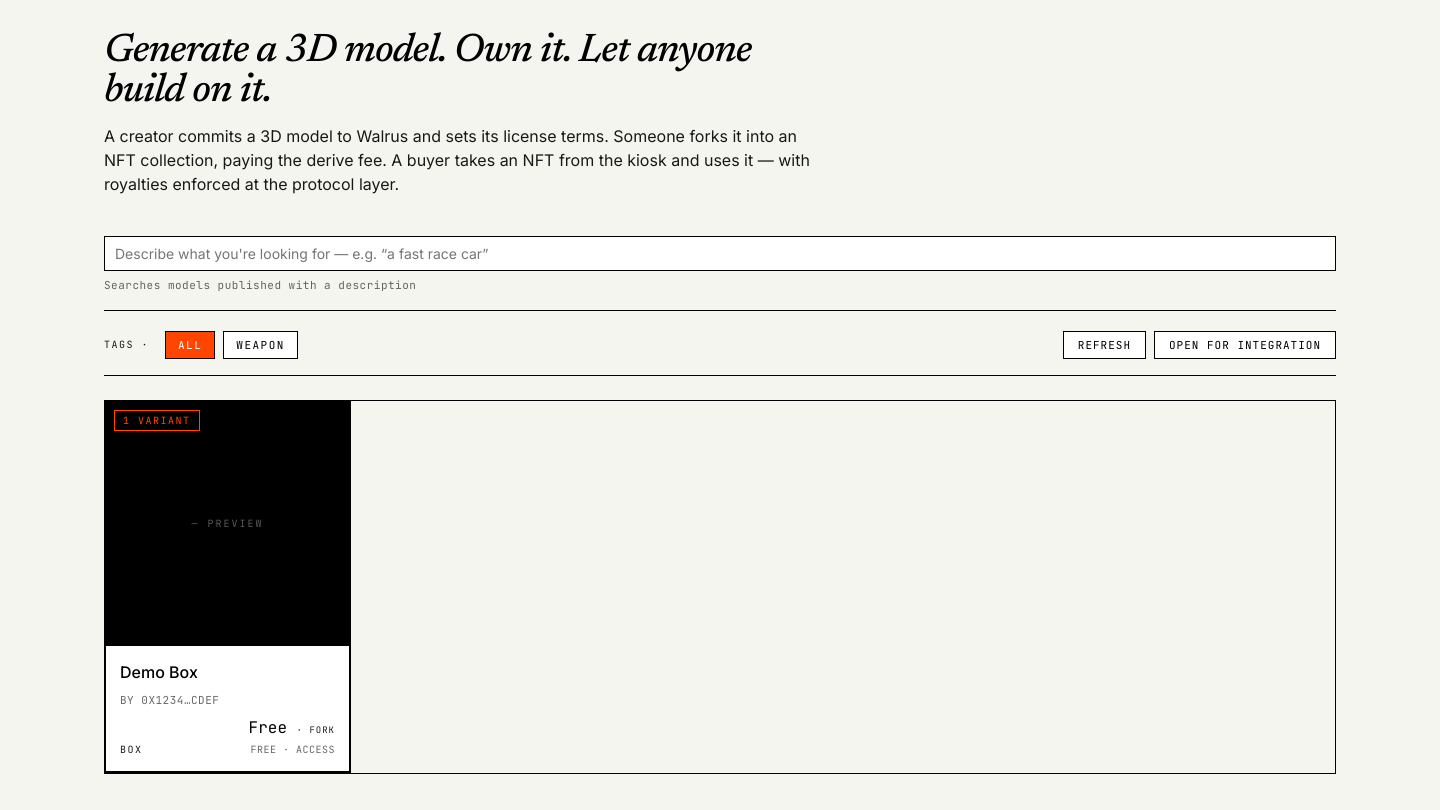
Test: BrowsePage › R10: a degraded recall scope surfaces the degraded note, not an empty grid, and suppresses showing-all
The width and height of the screenshot is (1440, 810).
Type "race car" into the field with test id "browse-search-input".
click(720, 254); type("race car")  # box [104, 236, 1336, 271]
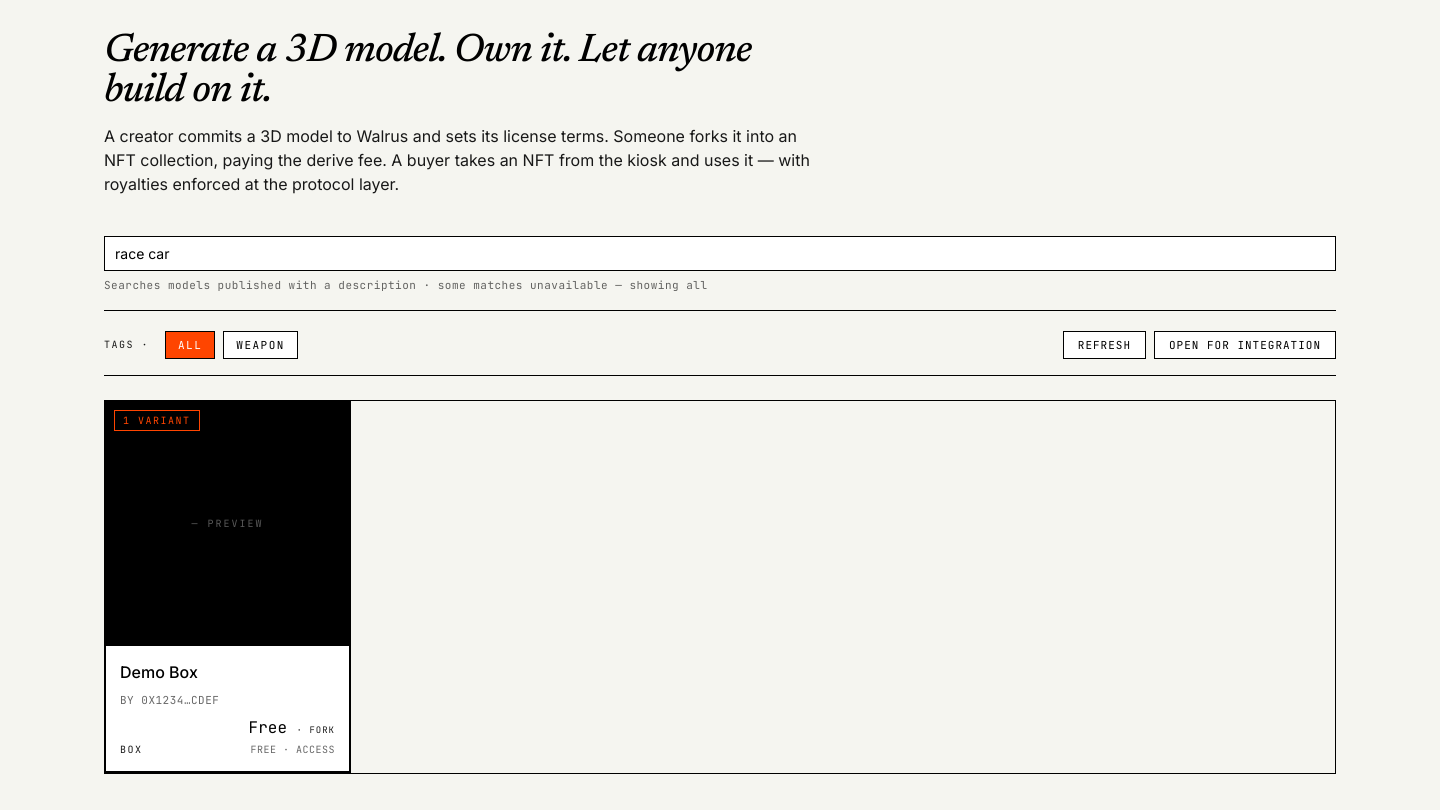
Expected: the element with test id "collection-card-0xc-a" is shown, [105, 400, 350, 772]
Result: the text "· some matches unavailable — showing all" is shown at [416, 278, 708, 292]
